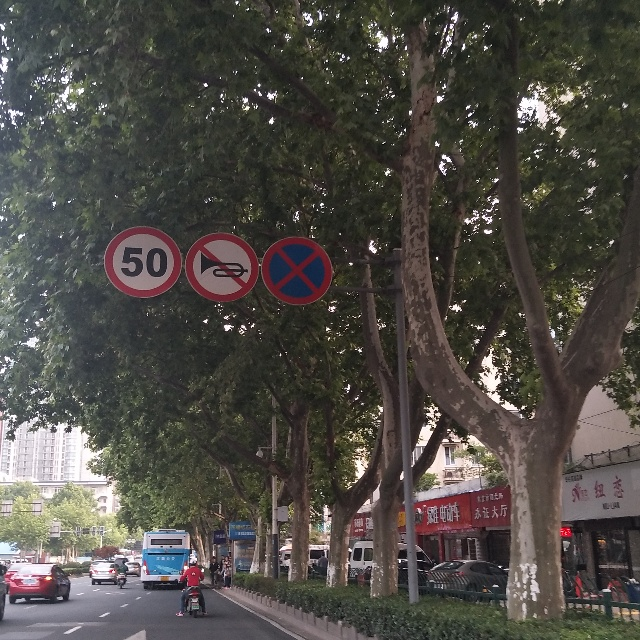nohonk: (184, 228, 261, 302)
stop: (260, 232, 335, 310)
